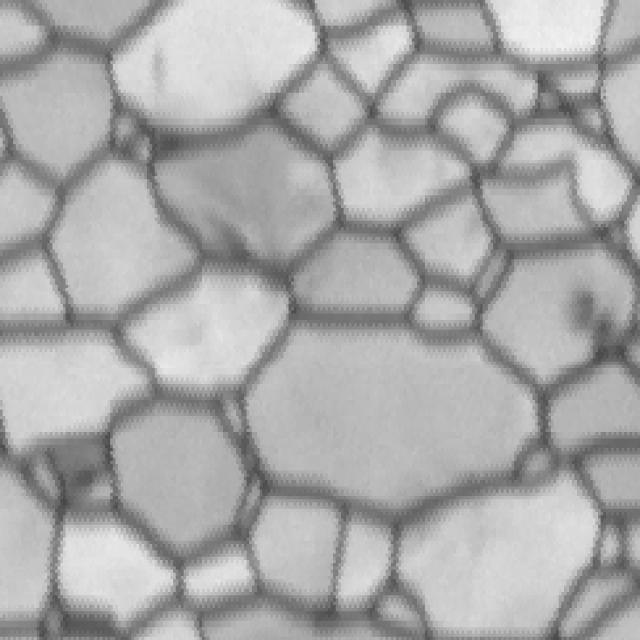good_void: (193, 209, 269, 287), (561, 280, 618, 368), (146, 39, 175, 97), (182, 305, 209, 349)
